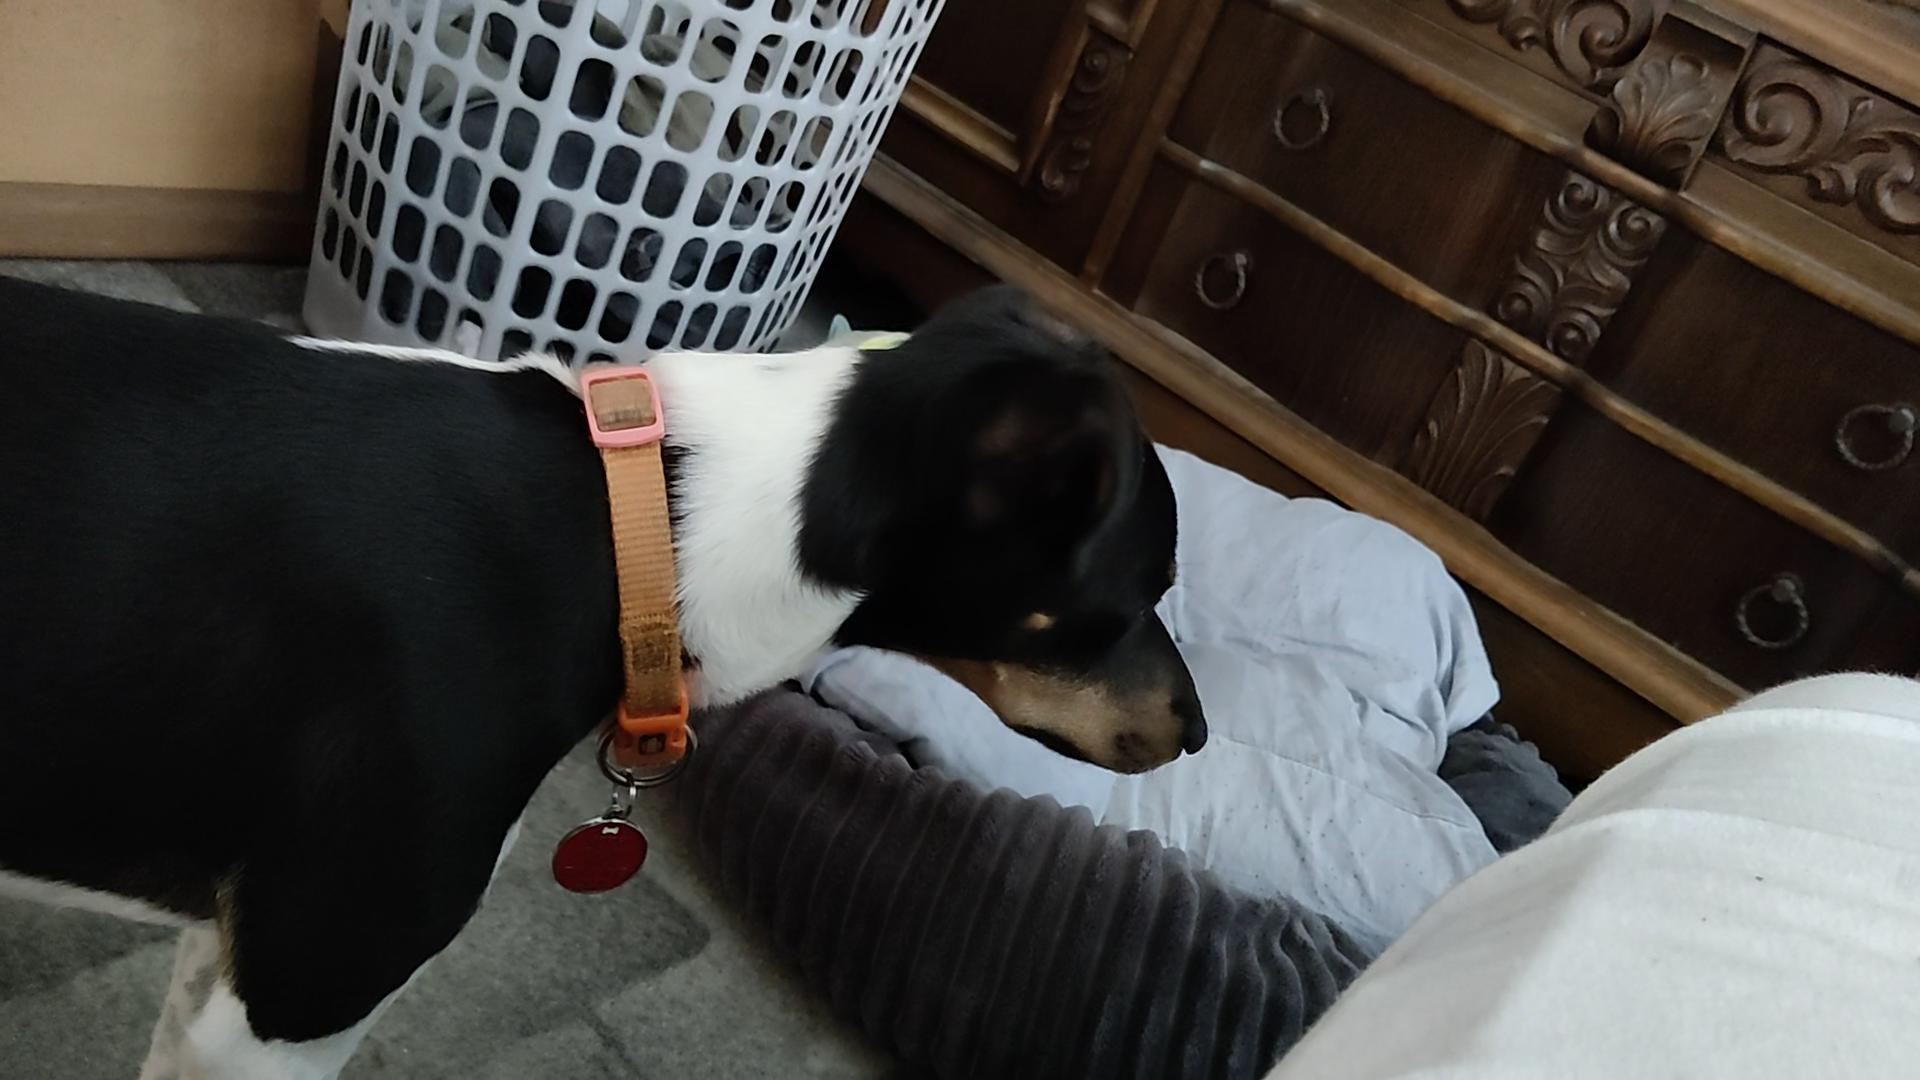Dog: (0, 268, 1211, 1079)
